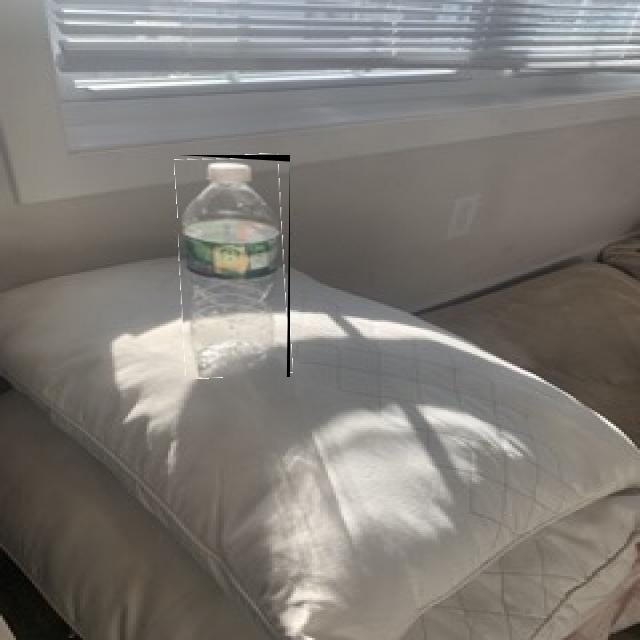water_bottle: (178, 155, 290, 377)
